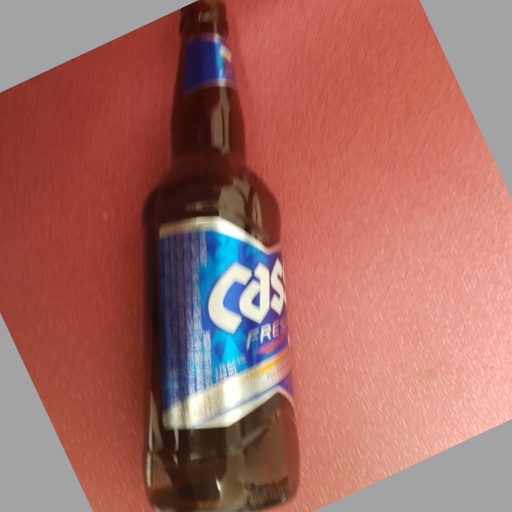Glass_1: (134, 1, 304, 510)
